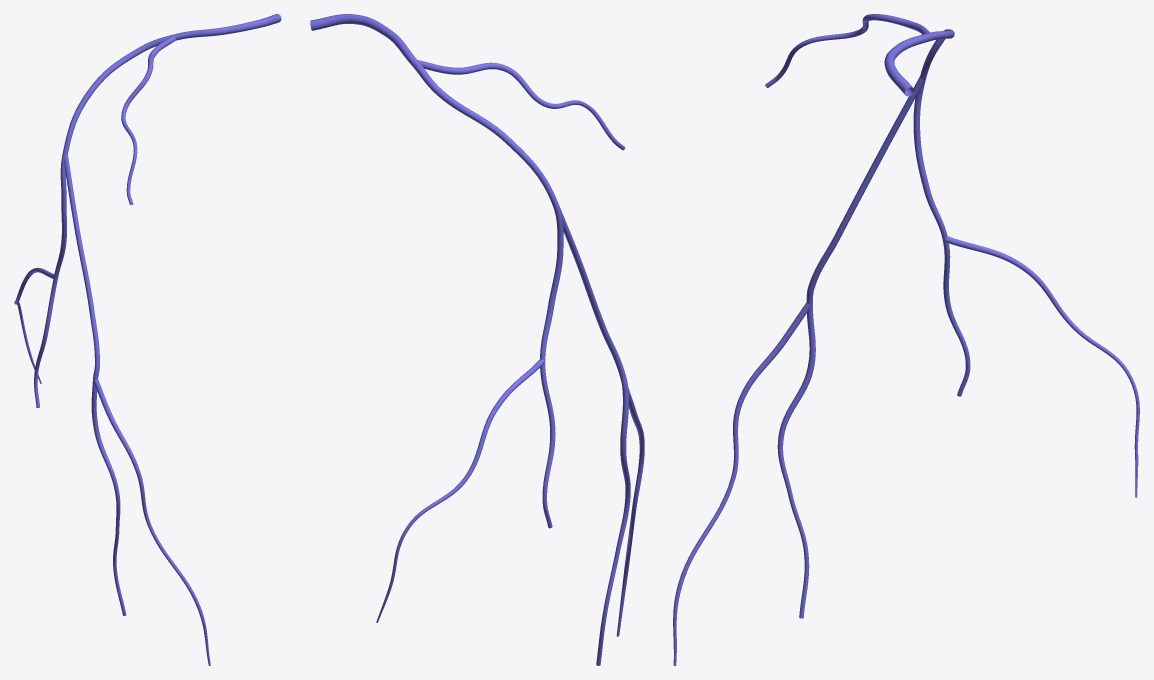
Rendered from Right_superior_phrenic_vein.glb.
The picture shows the model from 3 angles, left to right: view 1: azimuth 30°, elevation 25°; view 2: azimuth 150°, elevation 25°; view 3: azimuth 270°, elevation 25°; orthographic projection. The views are drawn at different scales.
Visible parts, largest first — view 1: Right_superior_phrenic_vein_BezierCurve.387; view 2: Right_superior_phrenic_vein_BezierCurve.387; view 3: Right_superior_phrenic_vein_BezierCurve.387.
Boxes of the visible parts, box(x1,y1,x2,y2) form: Right_superior_phrenic_vein_BezierCurve.387: box(14, 14, 281, 665); Right_superior_phrenic_vein_BezierCurve.387: box(310, 14, 644, 665); Right_superior_phrenic_vein_BezierCurve.387: box(673, 14, 1139, 665).
Size of the model in its own units: 0.0705 by 0.1631 by 0.1006.
